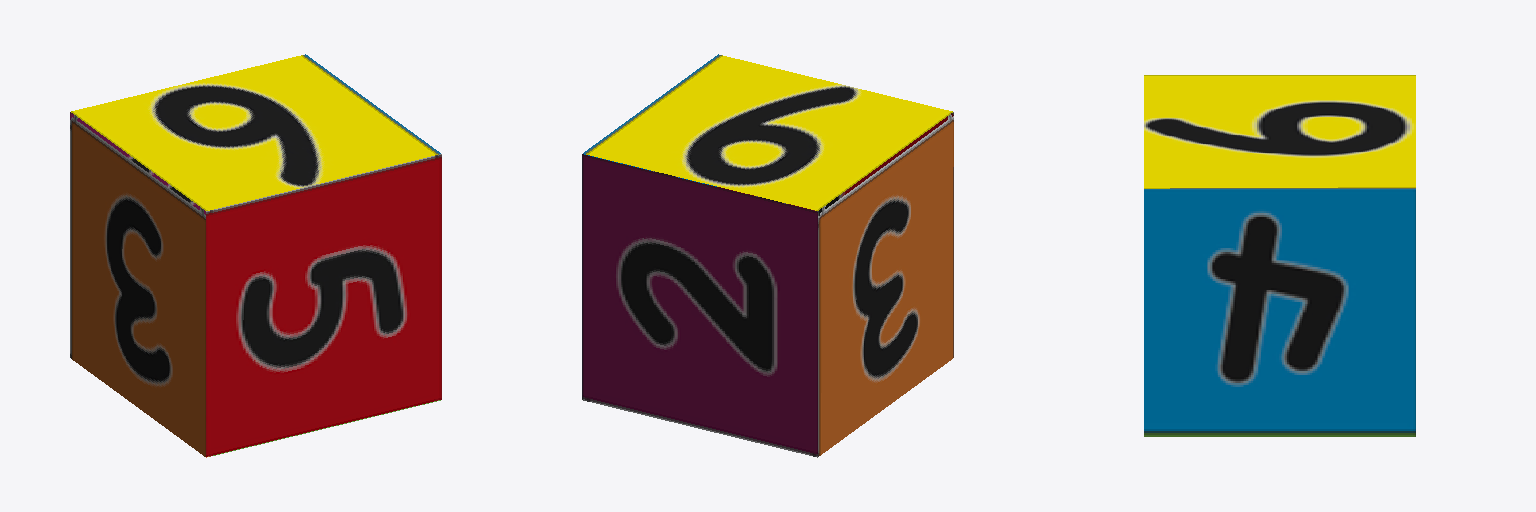
The picture shows the model from 3 angles: view 1: azimuth 30°, elevation 25°; view 2: azimuth 150°, elevation 25°; view 3: azimuth 270°, elevation 25°; orthographic projection.
Visible parts, largest first — view 1: Cube; view 2: Cube; view 3: Cube.
Part boxes in pixels (x1,y1,x2,y2): Cube: (70, 54, 441, 457); Cube: (582, 54, 953, 457); Cube: (1144, 75, 1415, 436).
Size of the model in its own units: 2 by 2 by 2.
1 materials, 1 textured.